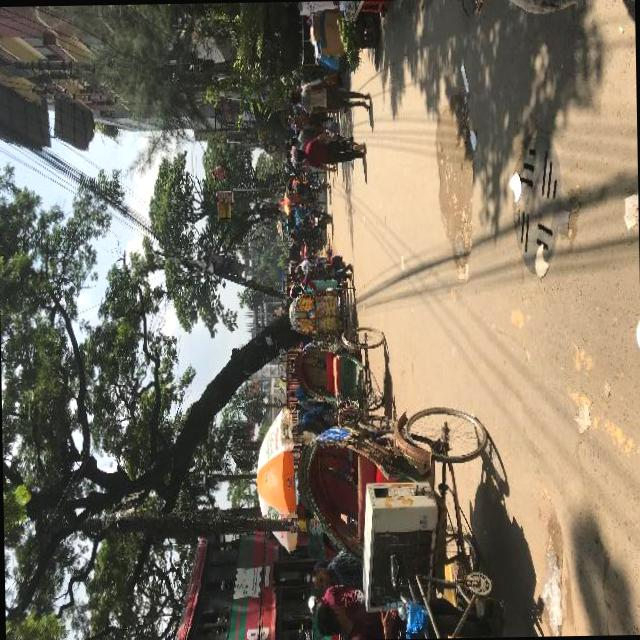motorcycle: (290, 402, 492, 636), (292, 322, 398, 434), (286, 285, 356, 336), (288, 201, 332, 230), (288, 236, 324, 260)
